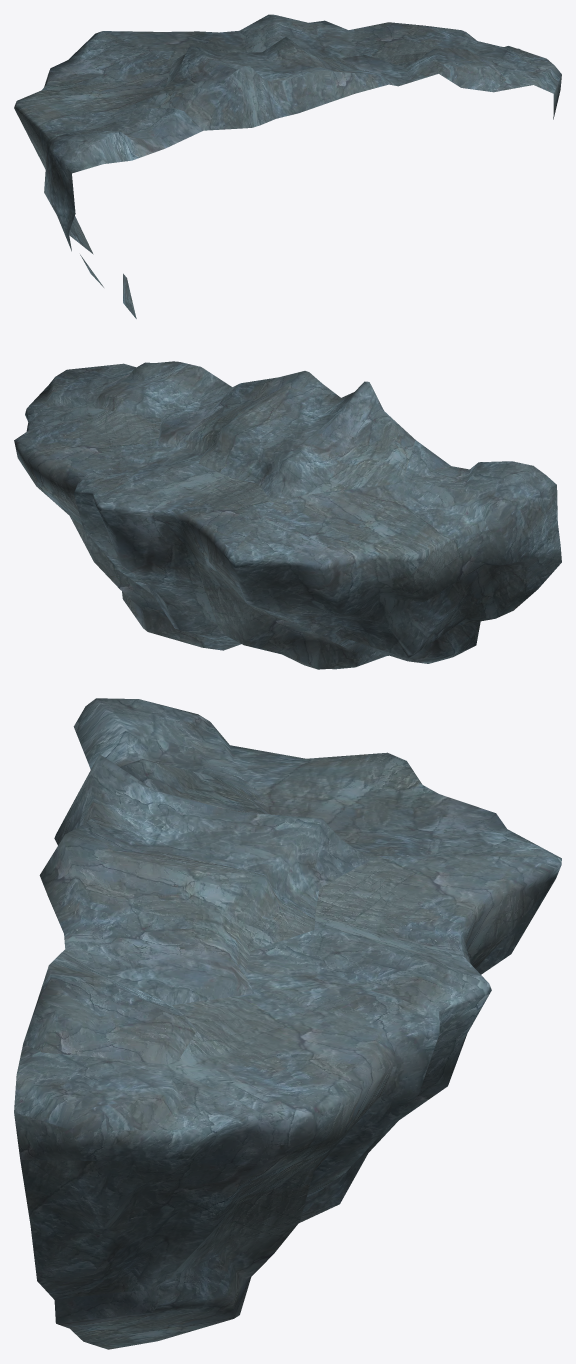
File: tesv_icebergledge01-transformed.glb
3 views of the same model, one above another, from view 1: azimuth 30°, elevation 25°; view 2: azimuth 150°, elevation 25°; view 3: azimuth 270°, elevation 25° (orthographic). The views are drawn at different scales.
Visible parts, largest first — view 1: icebergledge01; view 2: icebergledge01; view 3: icebergledge01.
Boxes of the visible parts, x1,y1,x2,y2 form: icebergledge01: [14, 14, 561, 318]; icebergledge01: [14, 361, 561, 669]; icebergledge01: [14, 698, 561, 1349].
Size of the model in its own units: 12.48 by 7.03 by 7.3.
Materials: 1 (1 with a texture image).
